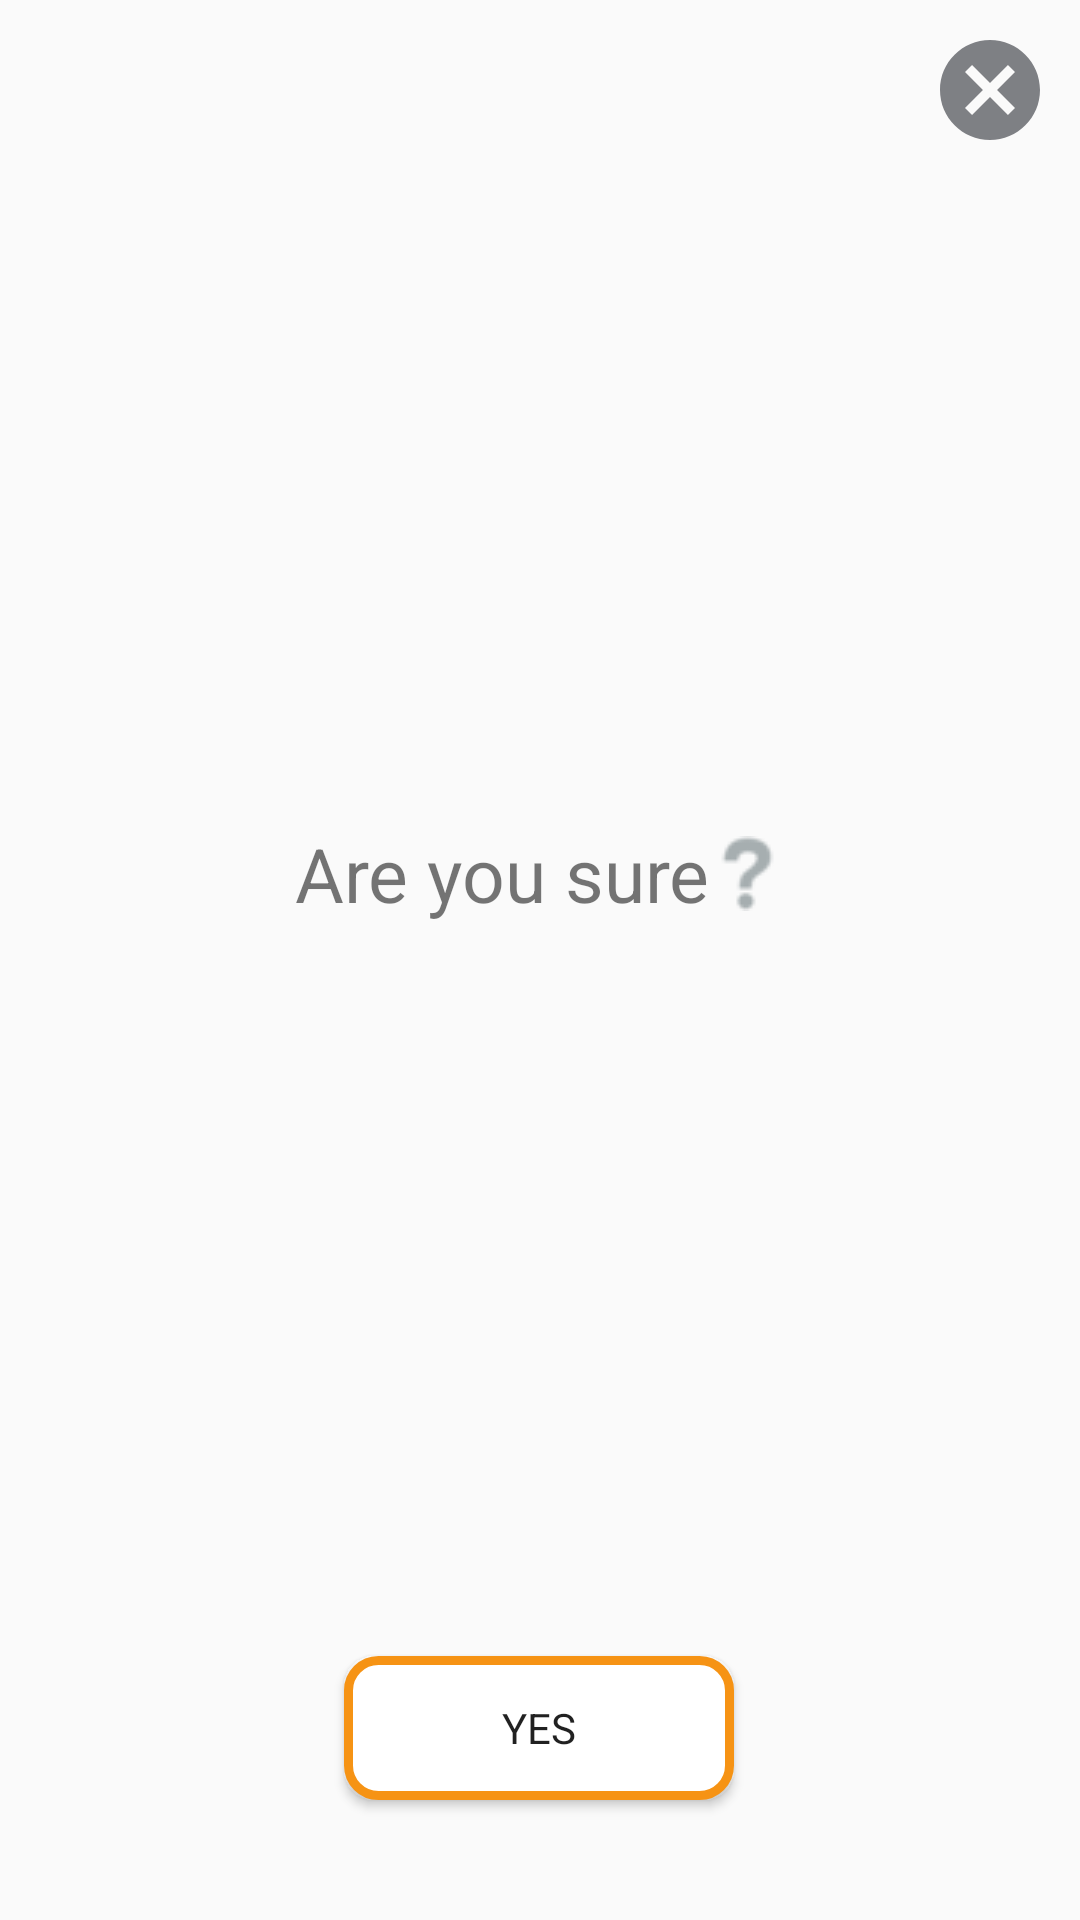

Icons on this 1080w x 1920h Android screen, each with the point to tap as (x=x, y=y):
cancel: (x=990, y=90)
